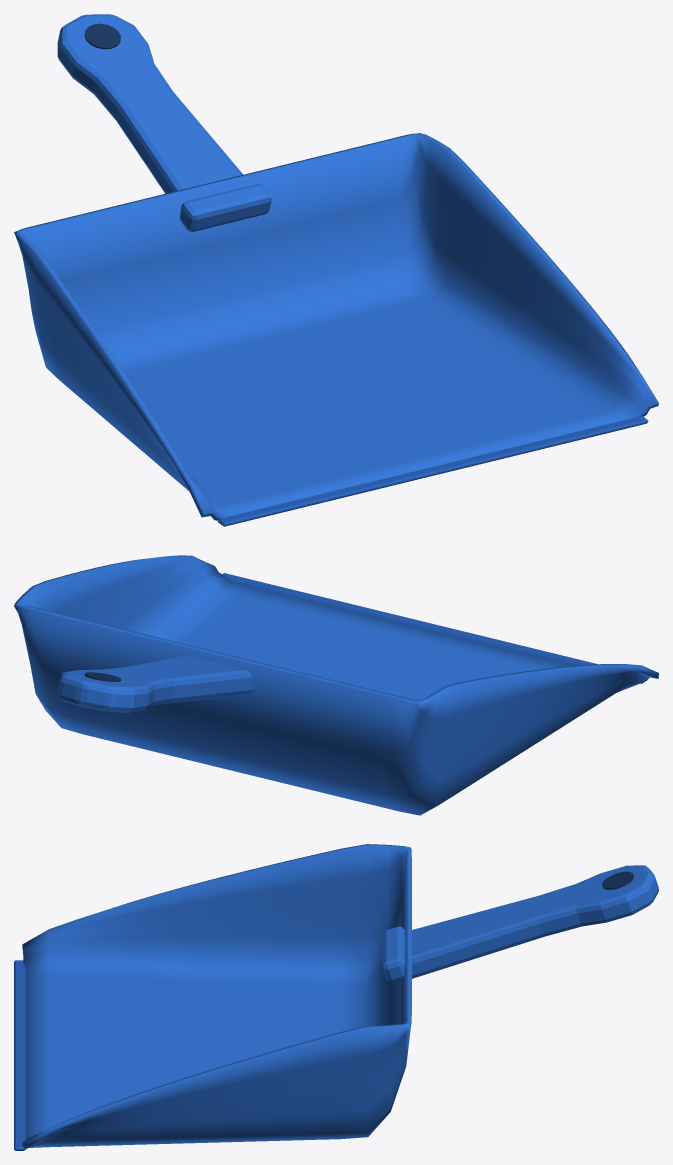
The model's file is item-25.glb.
3 renders of one model, top to bottom at view 1: azimuth 30°, elevation 25°; view 2: azimuth 150°, elevation 25°; view 3: azimuth 270°, elevation 25°, orthographic. The views are drawn at different scales.
Parts seen in each view (by area): view 1: pan, handle, lip, root, hole; view 2: pan, handle, lip; view 3: pan, handle, lip, root.
Boxes of the visible parts, <box> form: pan: <box>14,133,658,520</box>; handle: <box>57,14,242,193</box>; lip: <box>218,416,648,526</box>; root: <box>180,184,271,231</box>; hole: <box>84,23,120,49</box>; pan: <box>14,555,658,815</box>; handle: <box>57,655,253,712</box>; lip: <box>222,573,643,683</box>; pan: <box>22,844,411,1149</box>; handle: <box>404,865,658,978</box>; lip: <box>14,960,25,1150</box>; root: <box>382,926,405,982</box>.
Size of the model in its own units: 0.2427 by 0.1045 by 0.3276.
